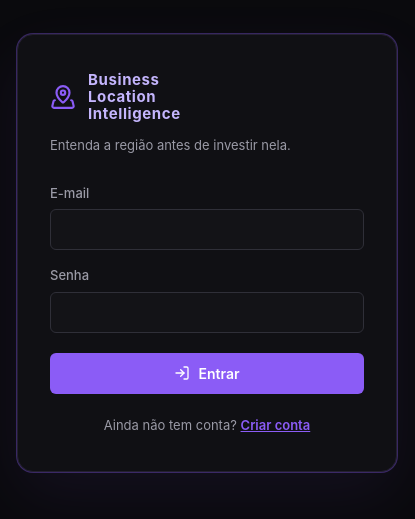
LoginPage › shows a Portuguese message for SOMETHING_NEW and never the raw code or server text
Type "maria@example.com" into the field labelled "E-mail" at (207, 230), box [50,209,364,250]
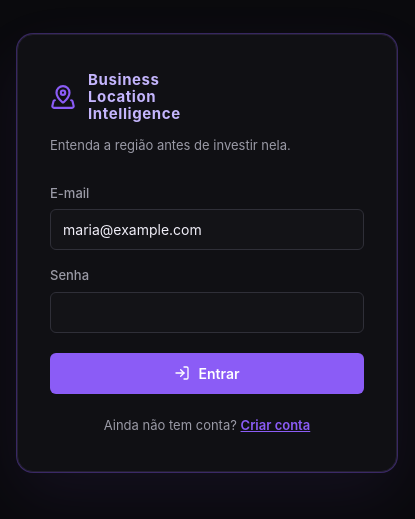
Type "alguma-senha-longa" into the password field labelled "Senha" at (207, 312), box [50,292,364,333]
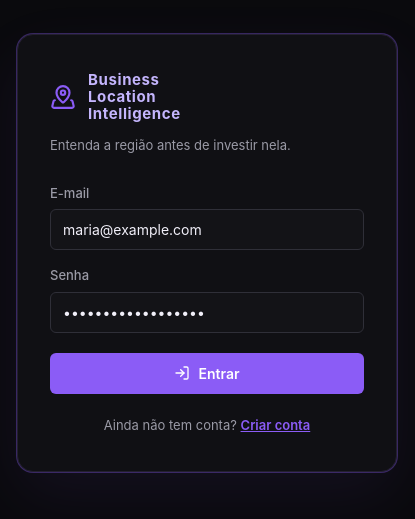
Click the button "Entrar" at (207, 373), box [50,353,364,394]
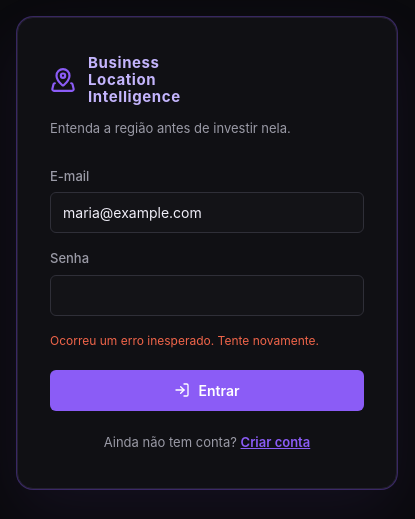
expect the message reads "Ocorreu um erro inesperado. Tente novamente.": met, box [50,333,319,348]
